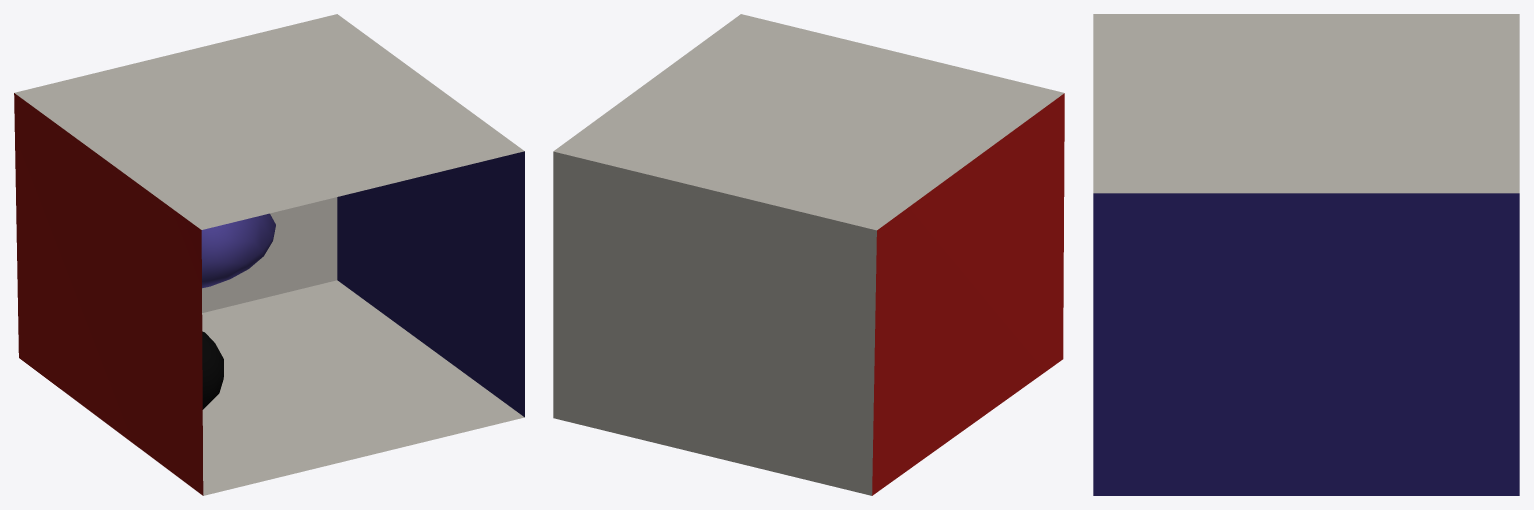
File: CornellBox-Ellipsoid-18.obj
3 renders of one model, left to right at view 1: azimuth 30°, elevation 25°; view 2: azimuth 150°, elevation 25°; view 3: azimuth 270°, elevation 25°, orthographic. The views are drawn at different scales.
Visible parts, largest first — view 1: ceiling, leftWall, floor, rightWall, backWall, leftSphere, rightSphere; view 2: backWall, ceiling, leftWall; view 3: rightWall, ceiling.
Boxes of the visible parts, box(x1,y1,x2,y2) form: ceiling: box(14, 14, 524, 229); leftWall: box(14, 93, 203, 495); floor: box(202, 280, 524, 495); rightWall: box(337, 151, 524, 417); backWall: box(202, 197, 337, 312); leftSphere: box(201, 213, 275, 288); rightSphere: box(202, 331, 223, 409); backWall: box(553, 151, 876, 495); ceiling: box(553, 14, 1064, 230); leftWall: box(872, 93, 1064, 495); rightWall: box(1093, 193, 1519, 495); ceiling: box(1093, 14, 1519, 193).
Size of the model in its own units: 2.02 by 1.59 by 2.03.
